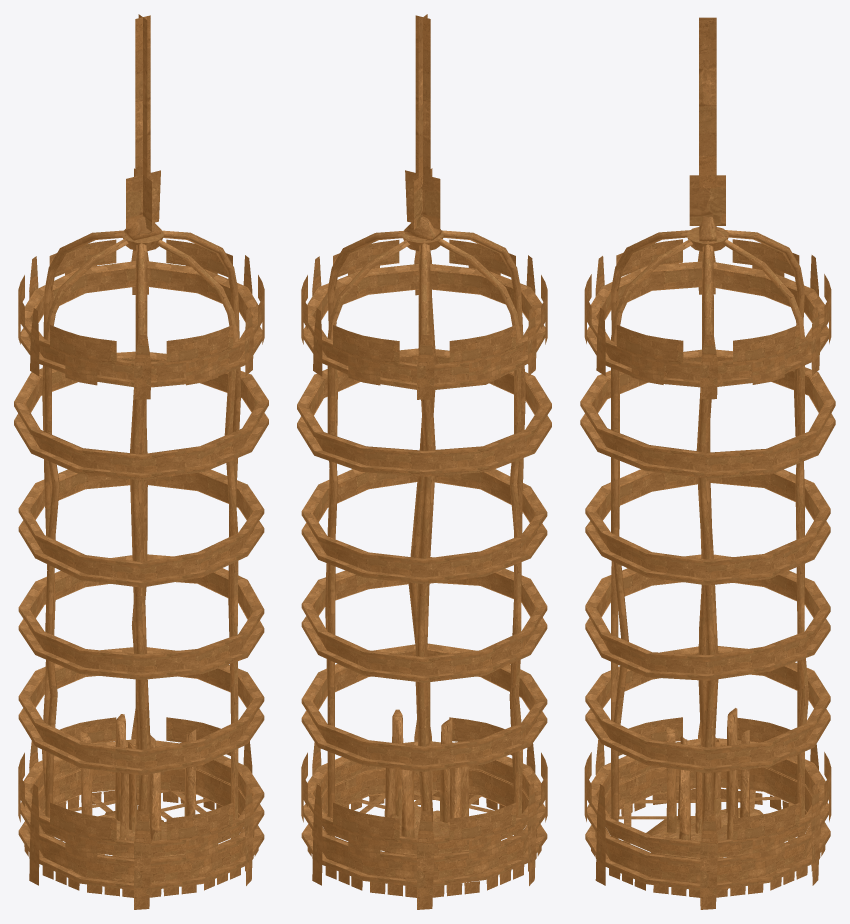
Rendered from aeg270_502.glb.
3 views of the same model, side by side, from view 1: azimuth 30°, elevation 25°; view 2: azimuth 150°, elevation 25°; view 3: azimuth 270°, elevation 25° (orthographic).
Parts seen in each view (by area): view 1: mesh[3], mesh[2], mesh[4], mesh[0], mesh[1]; view 2: mesh[3], mesh[2], mesh[4], mesh[0], mesh[1]; view 3: mesh[3], mesh[2], mesh[4], mesh[0], mesh[1].
Part boxes in pixels (box(x1,y1,x2,y2)): mesh[3]: box(14, 230, 268, 890); mesh[2]: box(18, 14, 264, 909); mesh[4]: box(28, 746, 254, 883); mesh[0]: box(60, 714, 196, 858); mesh[1]: box(122, 216, 163, 250); mesh[3]: box(297, 230, 551, 886); mesh[2]: box(301, 14, 547, 909); mesh[4]: box(312, 760, 536, 880); mesh[0]: box(384, 709, 468, 855); mesh[1]: box(402, 216, 443, 251); mesh[3]: box(580, 229, 835, 890); mesh[2]: box(584, 17, 831, 909); mesh[4]: box(595, 744, 820, 883); mesh[0]: box(646, 708, 763, 858); mesh[1]: box(687, 216, 728, 251).
Bounding box in the file's own units: 2.37 × 8.62 × 2.37.
Materials: 5 (5 with a texture image).
